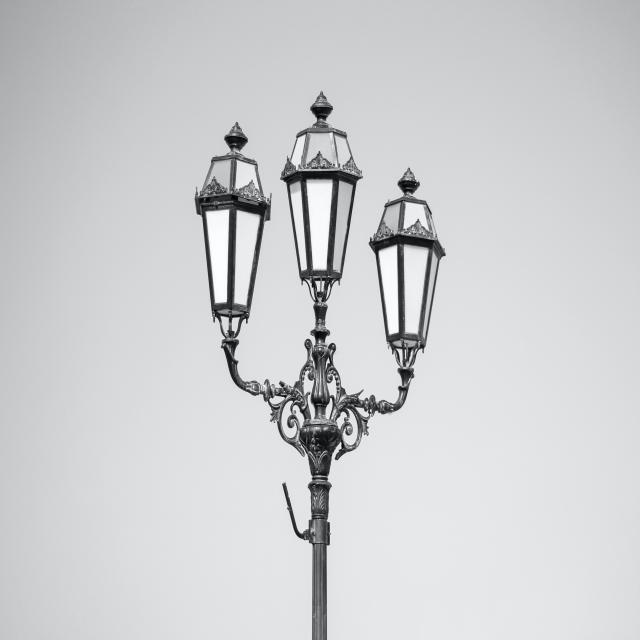Street Light: (194, 93, 445, 640)
